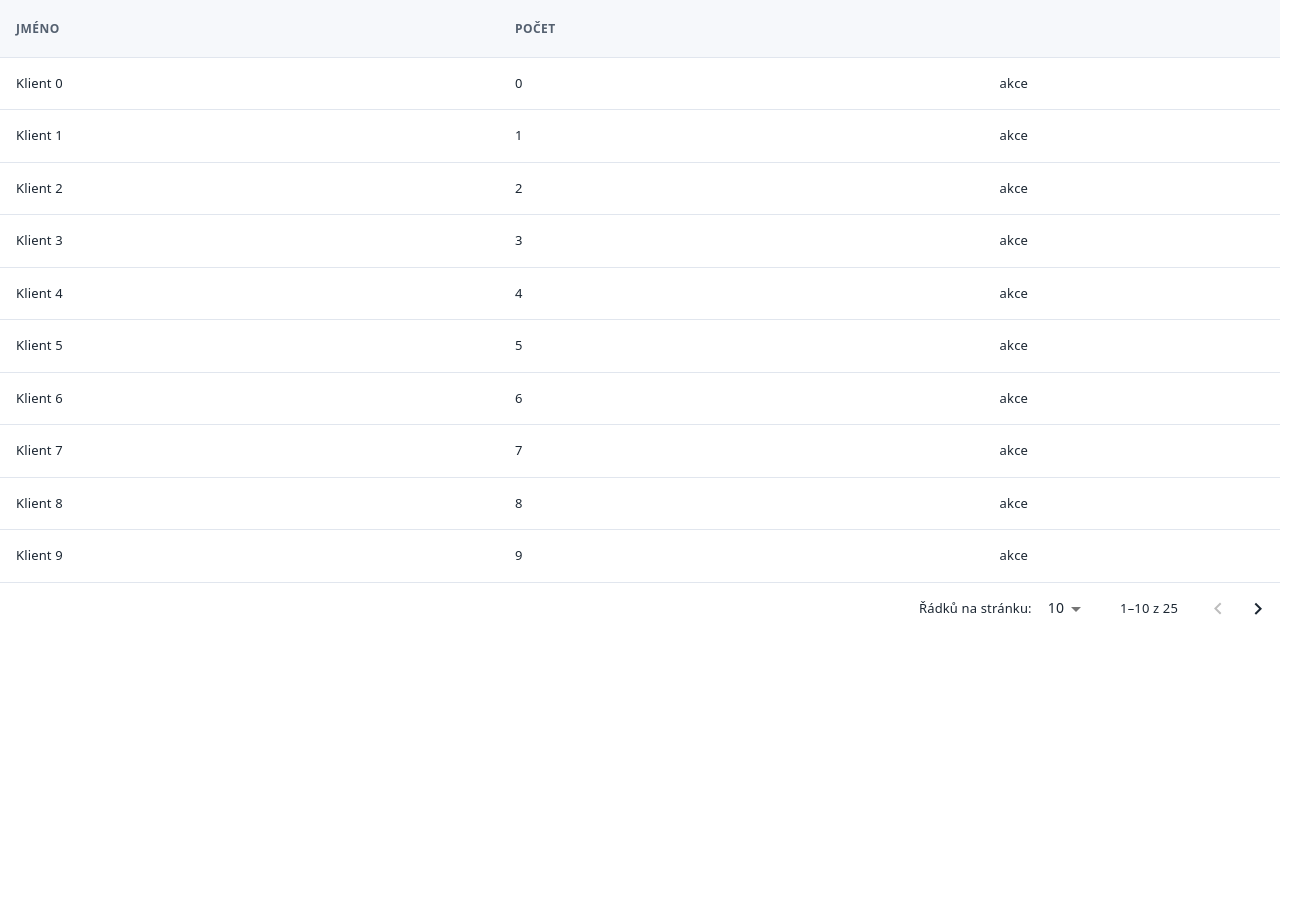
Test: DataTable paging › renders the short remainder on the last page
Click the button named "Další stránka".
click(1258, 609)  # box [1238,589,1278,629]
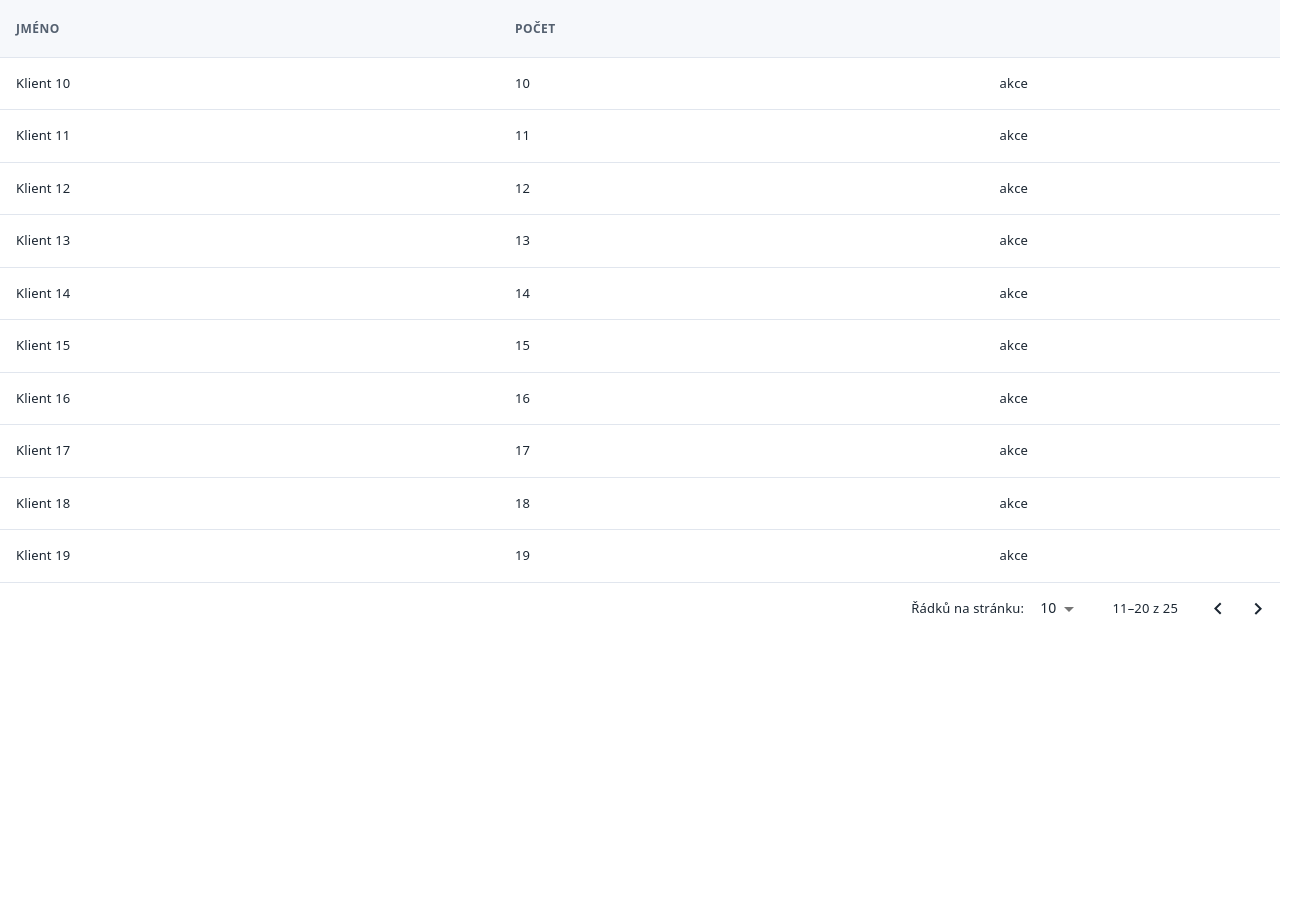
Click the button named "Další stránka".
click(1258, 609)  # box [1238,589,1278,629]
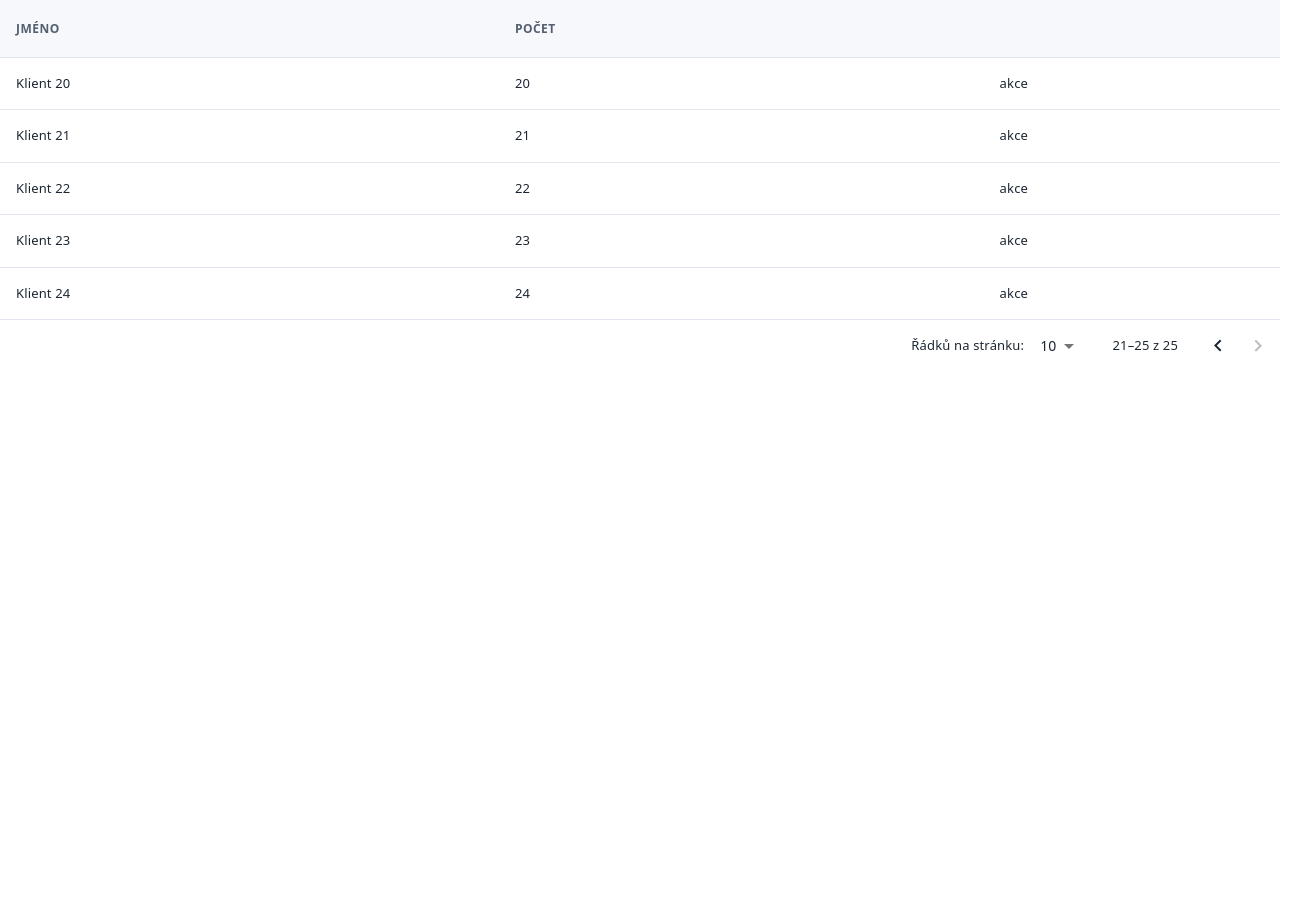
Result: the text "21–25 z 25" is shown at [1112,336,1178,356]
